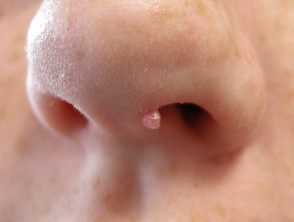Warts: (128, 99, 169, 139)
